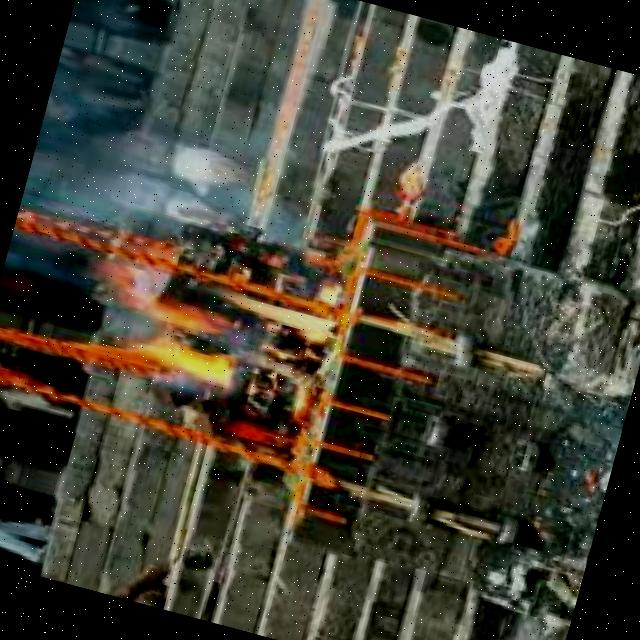fire: (108, 243, 352, 417)
